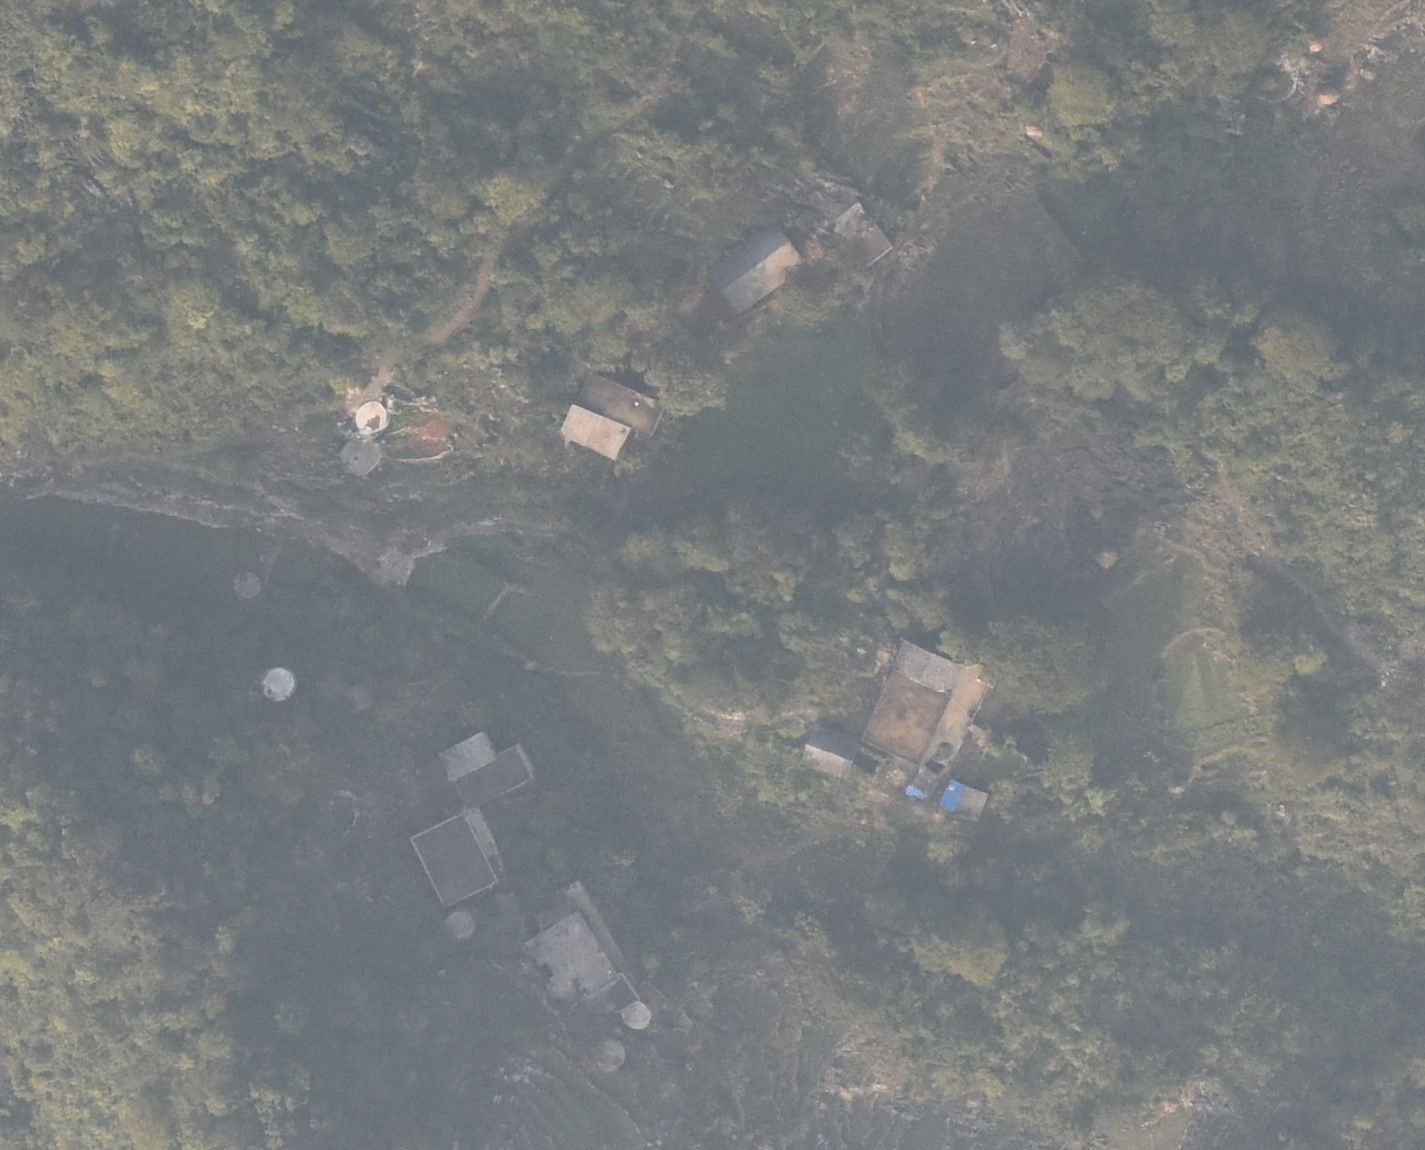building: (401, 806, 509, 913), (860, 663, 952, 771), (520, 909, 617, 1009), (712, 223, 806, 313), (448, 740, 545, 812), (575, 368, 666, 434), (828, 204, 901, 270), (798, 722, 872, 783), (559, 402, 632, 464), (890, 631, 958, 694), (439, 731, 499, 787), (958, 786, 985, 821)
prefabricated-house: (934, 782, 963, 812)
well: (256, 664, 308, 703), (332, 437, 383, 475), (589, 1034, 632, 1073), (352, 397, 387, 435), (435, 909, 475, 943), (615, 997, 651, 1030), (232, 569, 261, 604)
